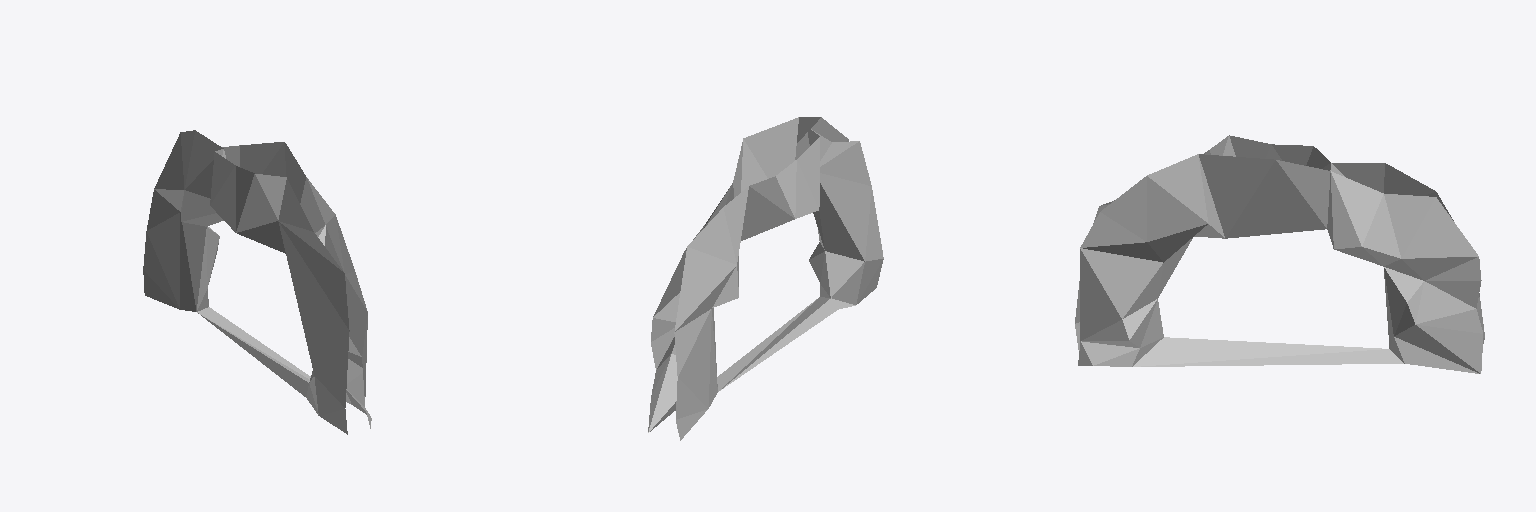
File: Mesh_CavePack_RoomSeparator_lod2.obj
3 renders of one model, left to right at view 1: azimuth 30°, elevation 25°; view 2: azimuth 150°, elevation 25°; view 3: azimuth 270°, elevation 25°, orthographic.
Parts seen in each view (by area): view 1: RoomSeparator_Plane.000; view 2: RoomSeparator_Plane.000; view 3: RoomSeparator_Plane.000.
Part boxes in pixels (bbox=[...]): RoomSeparator_Plane.000: bbox=[143, 130, 371, 434]; RoomSeparator_Plane.000: bbox=[648, 117, 883, 440]; RoomSeparator_Plane.000: bbox=[1075, 135, 1484, 373].
Bounding box in the file's own units: 3.08 × 8.78 × 14.93.